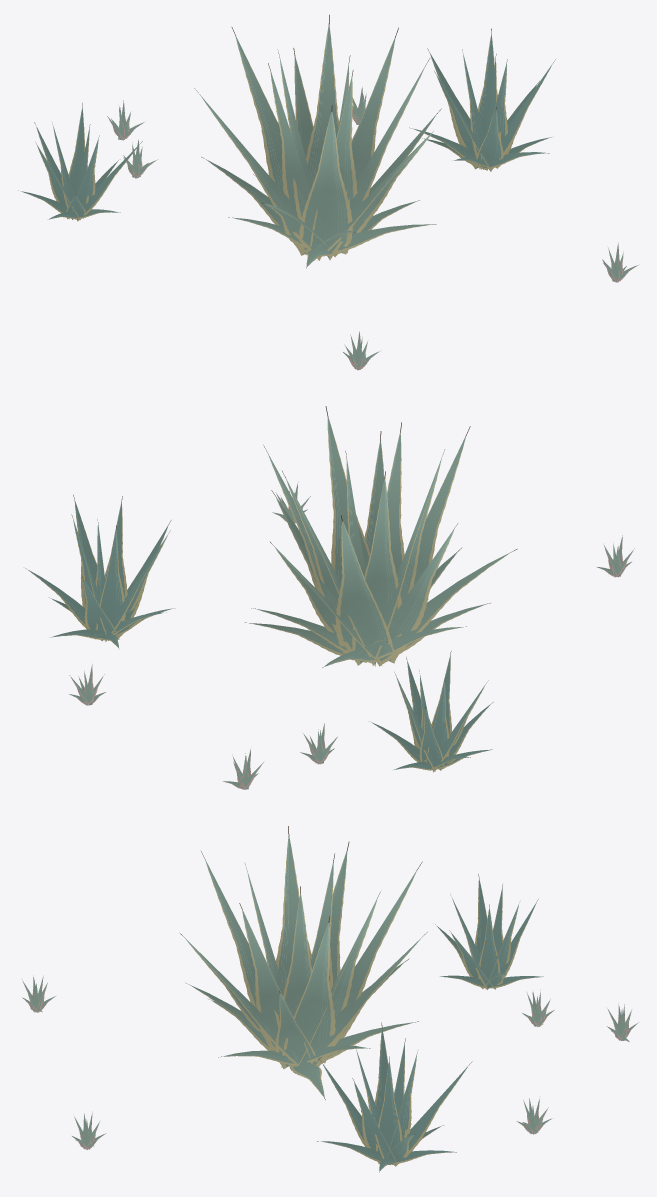
Rendered from succulent_agave.glb.
3 renders of one model, top to bottom at view 1: azimuth 30°, elevation 25°; view 2: azimuth 150°, elevation 25°; view 3: azimuth 270°, elevation 25°, orthographic. The views are drawn at different scales.
Parts seen in each view (by area): view 1: succulent_agave; view 2: succulent_agave; view 3: succulent_agave.
Boxes of the visible parts, x1,y1,x2,y2 form: succulent_agave: (18,14,638,370); succulent_agave: (25,406,634,789); succulent_agave: (22,826,637,1172).
Bounding box in the file's own units: 2.27 × 0.9335 × 2.51.
1 material, 1 textured.
